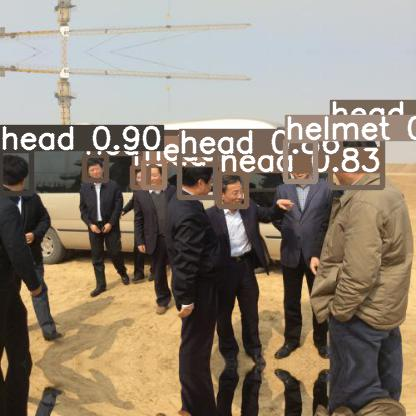head: (330, 125, 382, 187), (179, 154, 215, 197), (0, 150, 31, 193), (219, 172, 246, 206), (84, 155, 106, 180), (143, 161, 164, 187), (132, 166, 148, 187)
helmet: (285, 140, 315, 181)
